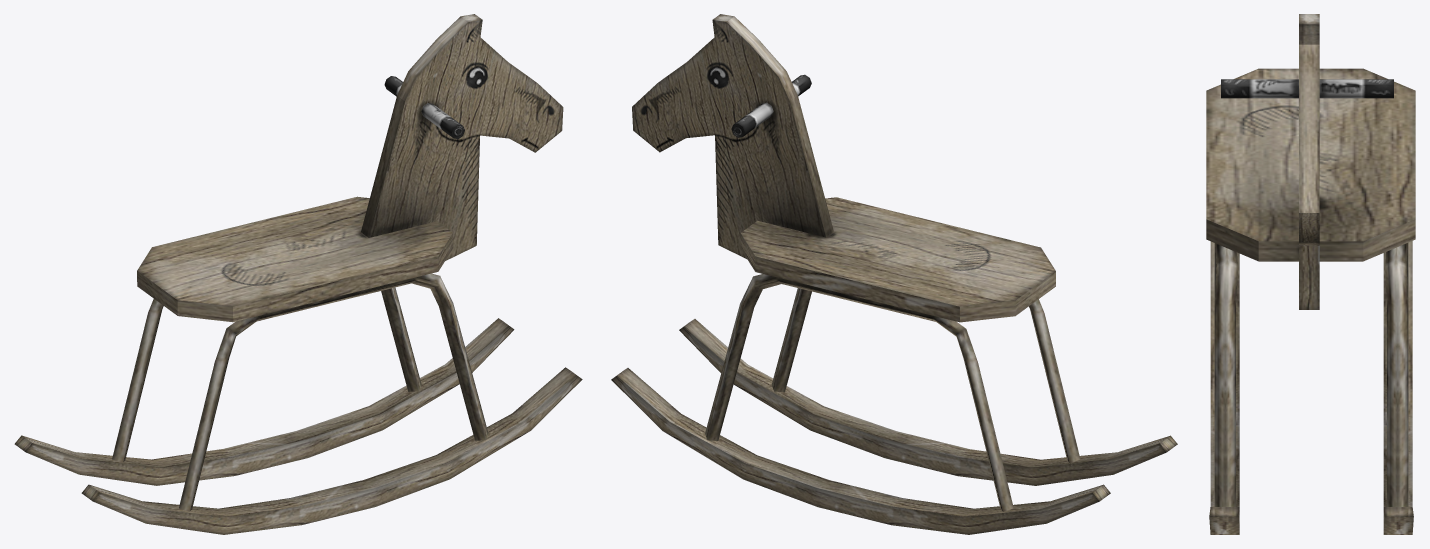
File: woodenHorse.fbx
3 renders of one model, left to right at view 1: azimuth 30°, elevation 25°; view 2: azimuth 150°, elevation 25°; view 3: azimuth 270°, elevation 25°, orthographic. The views are drawn at different scales.
Visible parts, largest first — view 1: pasted__chevaldebois1; view 2: pasted__chevaldebois1; view 3: pasted__chevaldebois1.
Boxes of the visible parts, left/top/right/bottom form: pasted__chevaldebois1: left=14, top=14, right=582, bottom=534; pasted__chevaldebois1: left=611, top=14, right=1177, bottom=534; pasted__chevaldebois1: left=1206, top=14, right=1415, bottom=534.
Size of the model in its own units: 117 by 94.68 by 32.48.
